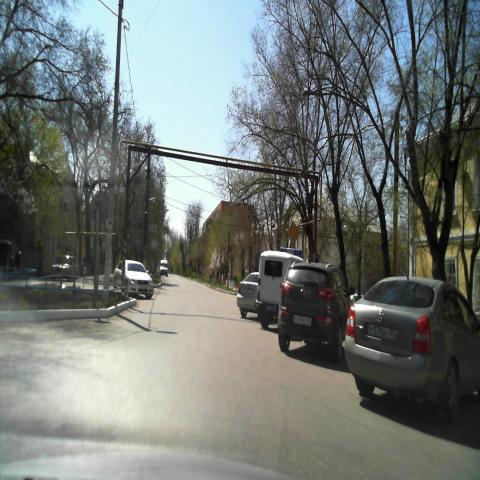2_1: (287, 221, 300, 243)
